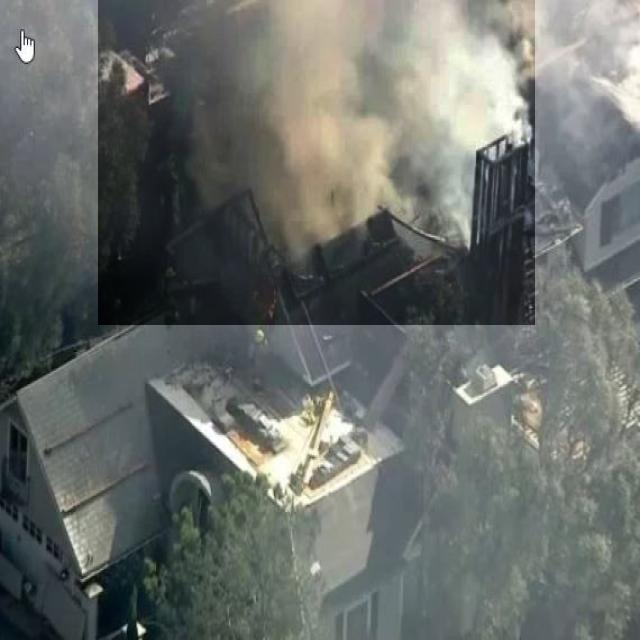Smoke: (98, 0, 535, 325)
